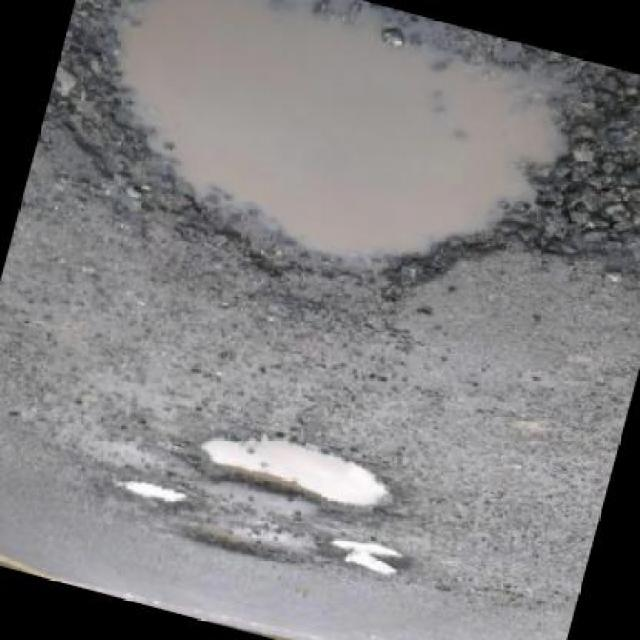pothole1: (21, 0, 638, 372), (173, 414, 407, 532), (166, 513, 314, 575), (320, 531, 408, 586), (101, 468, 193, 518)
